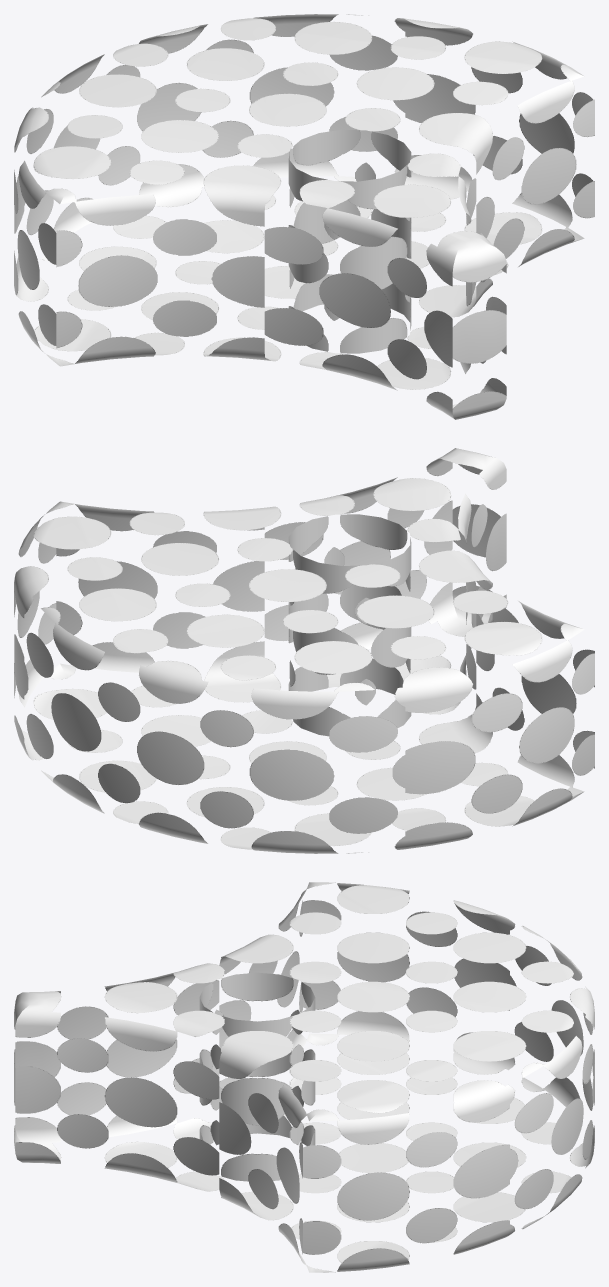
3 views of the same model, one above another, from view 1: azimuth 30°, elevation 25°; view 2: azimuth 150°, elevation 25°; view 3: azimuth 270°, elevation 25° (orthographic). The views are drawn at different scales.
Visible parts, largest first — view 1: OriginalScallop.007; view 2: OriginalScallop.007; view 3: OriginalScallop.007.
Part boxes in pixels (box(x1,y1,x2,y2)): OriginalScallop.007: box(14, 14, 594, 419); OriginalScallop.007: box(14, 448, 594, 853); OriginalScallop.007: box(14, 882, 594, 1272).
Size of the model in its own units: 236 by 72.02 by 236.
